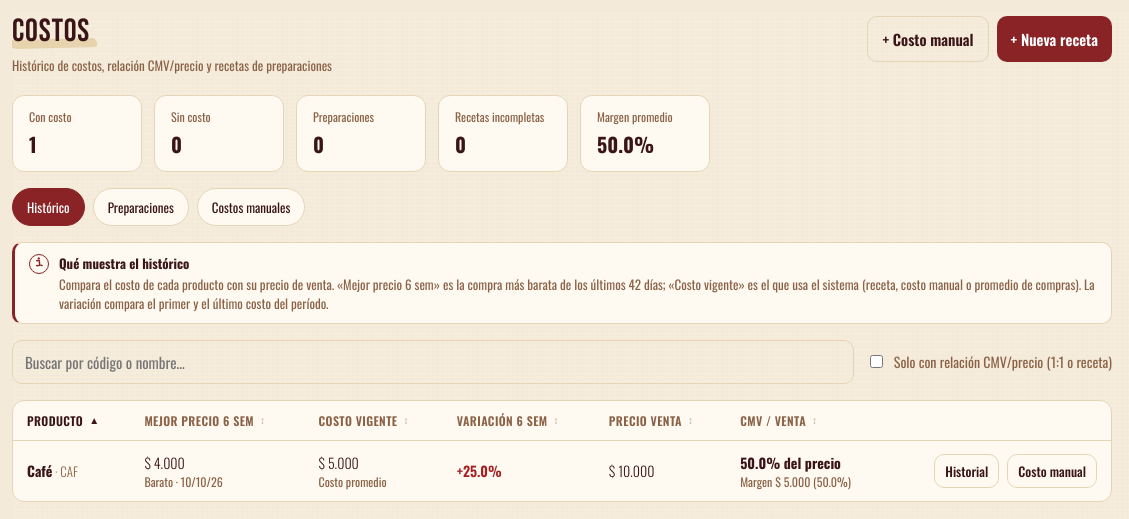
Test: Costos › lista los costos manuales
This screenshot has width=1129, height=519.
Expected: the text "Café" is shown, [27, 460, 52, 481]
Step 1. Click the button "Costos manuales" → (251, 207), box [197, 188, 306, 226]
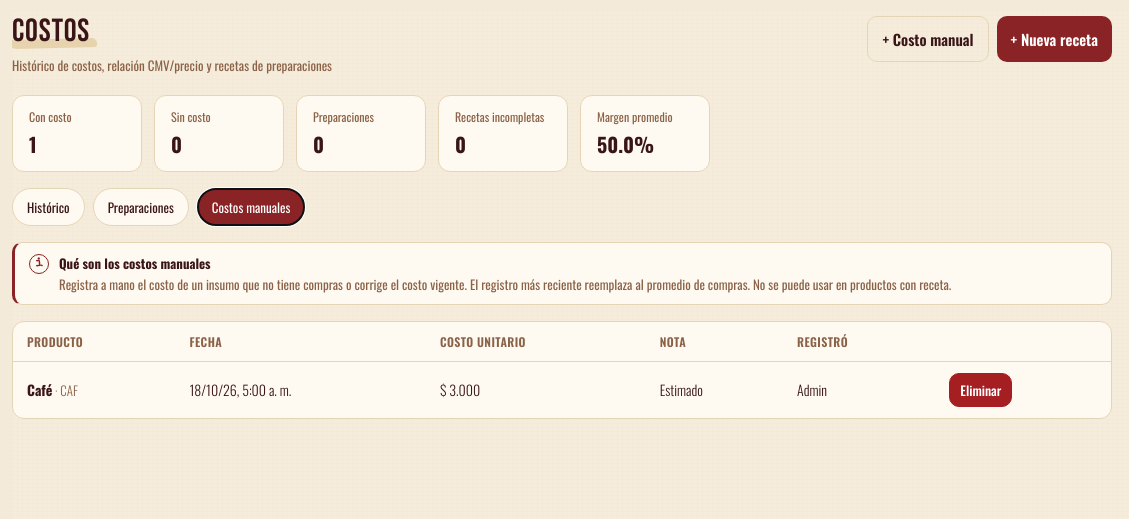
Expected: the text "Estimado" is shown, [646, 361, 783, 418]
Expected: the text "Admin" is shown, [783, 361, 935, 418]
Expected: the text "Qué son los costos manuales" is shown, [59, 253, 211, 273]
